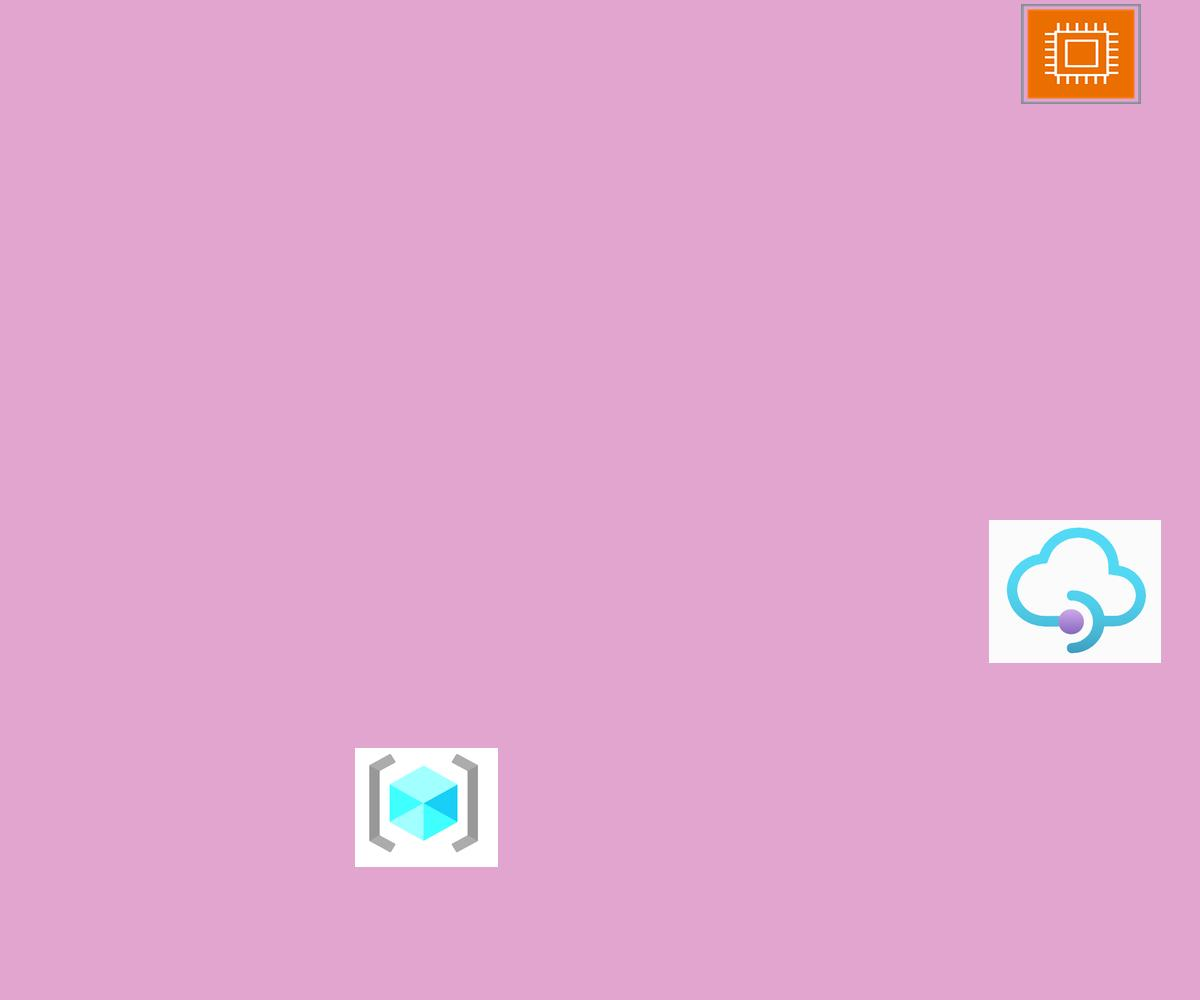AWS-Category_Compute: (1021, 4, 1141, 104)
Azure_api_gateway: (989, 520, 1161, 663)
Azure_resource_group: (355, 748, 498, 867)
